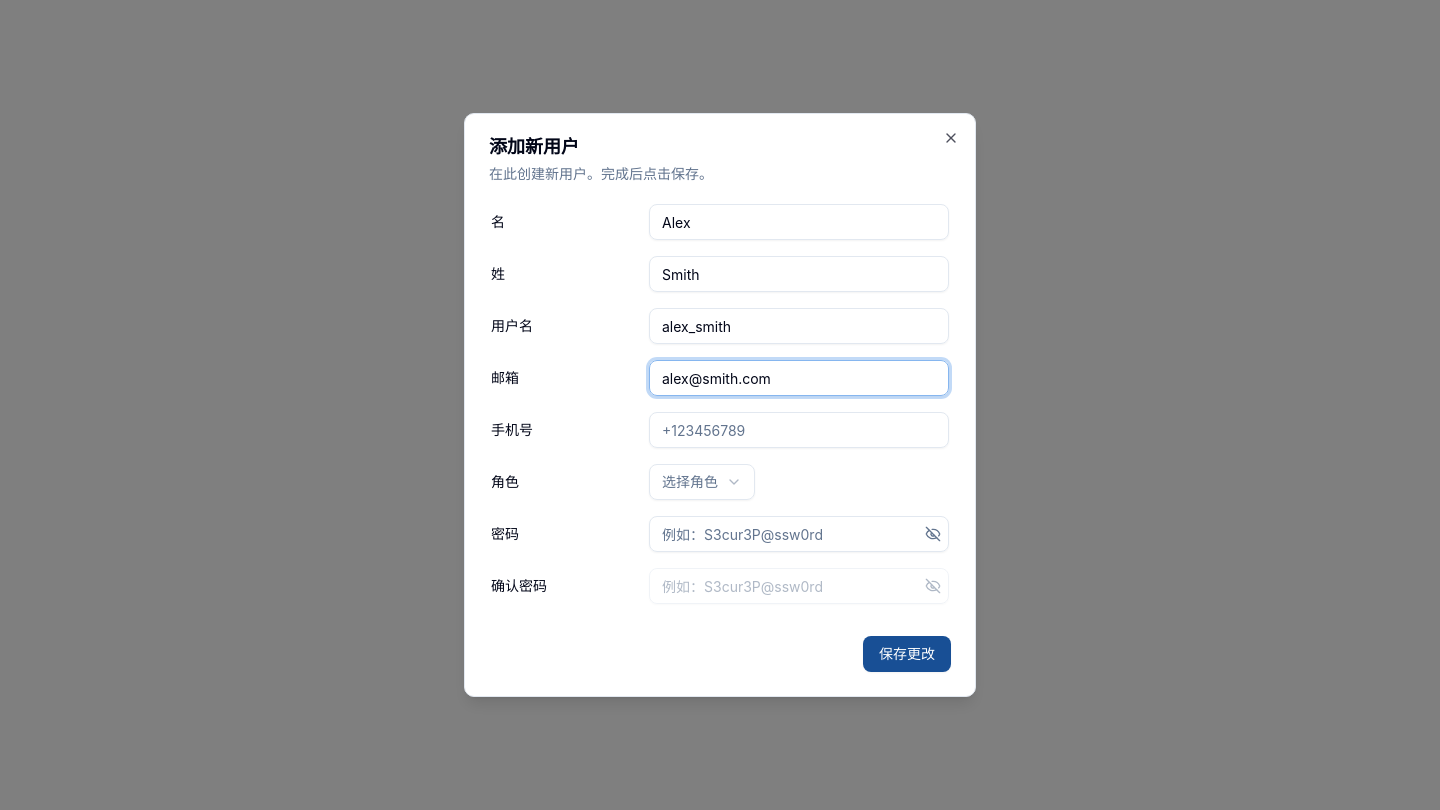
Test: UsersActionDialog › add user › shows server conflicts on the matching field and stays open
Earlier steps of the test are not shown.
Type "+19999999999" into the field labelled "手机号".
click(799, 430); type("+19999999999")  # box [649, 412, 949, 448]
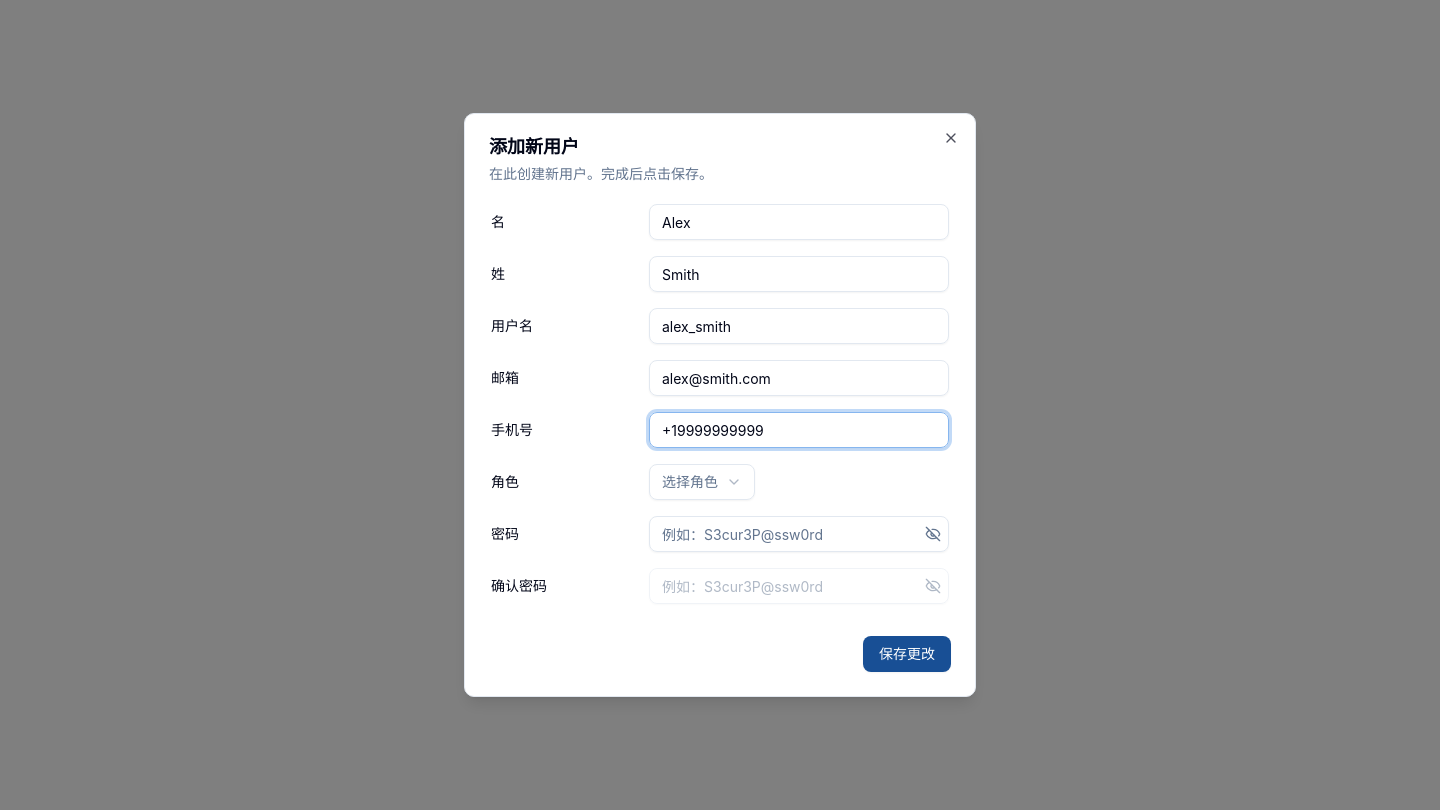
Click the dropdown labelled "选择角色".
click(702, 482)  # box [649, 464, 755, 500]
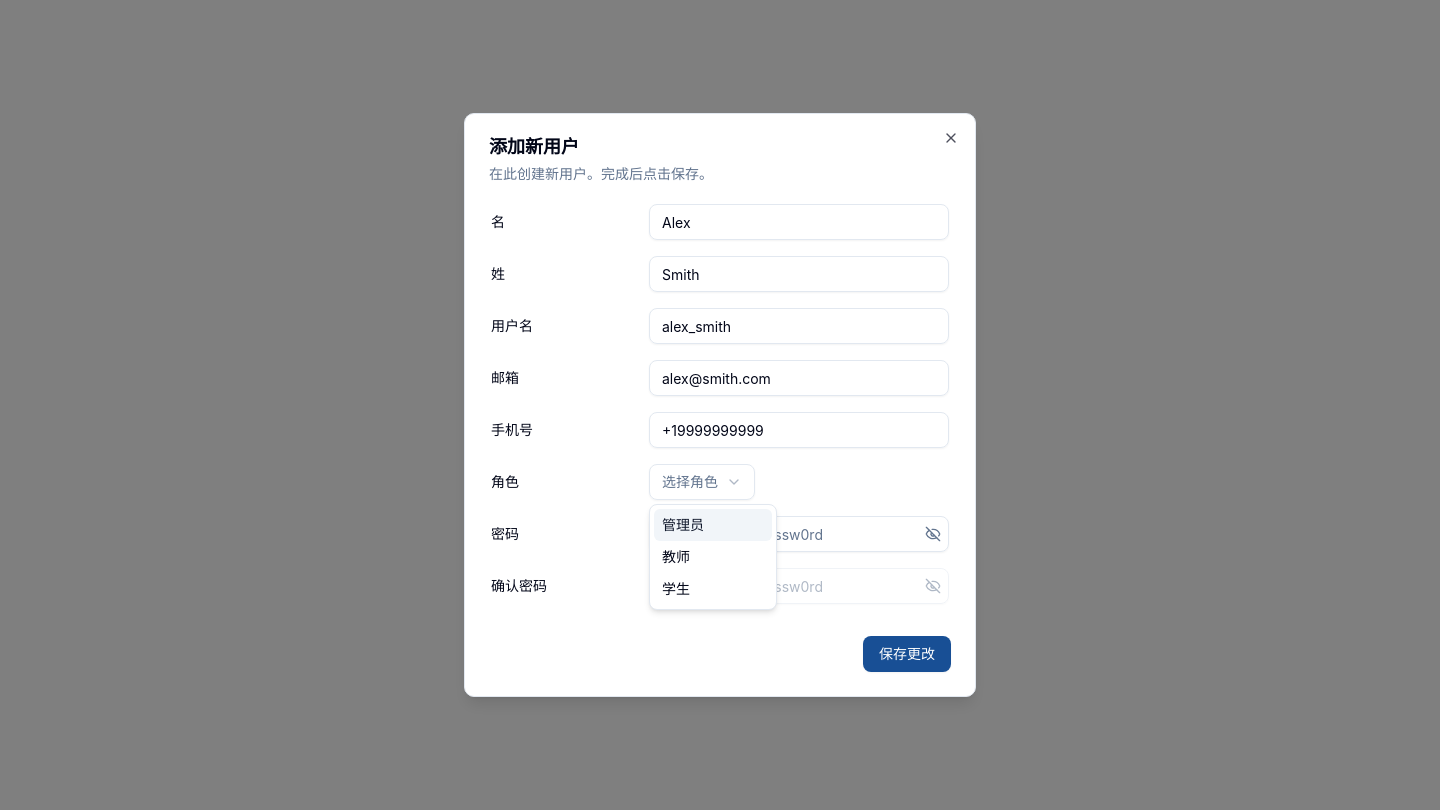
Click the option "管理员".
click(713, 525)  # box [654, 509, 772, 541]
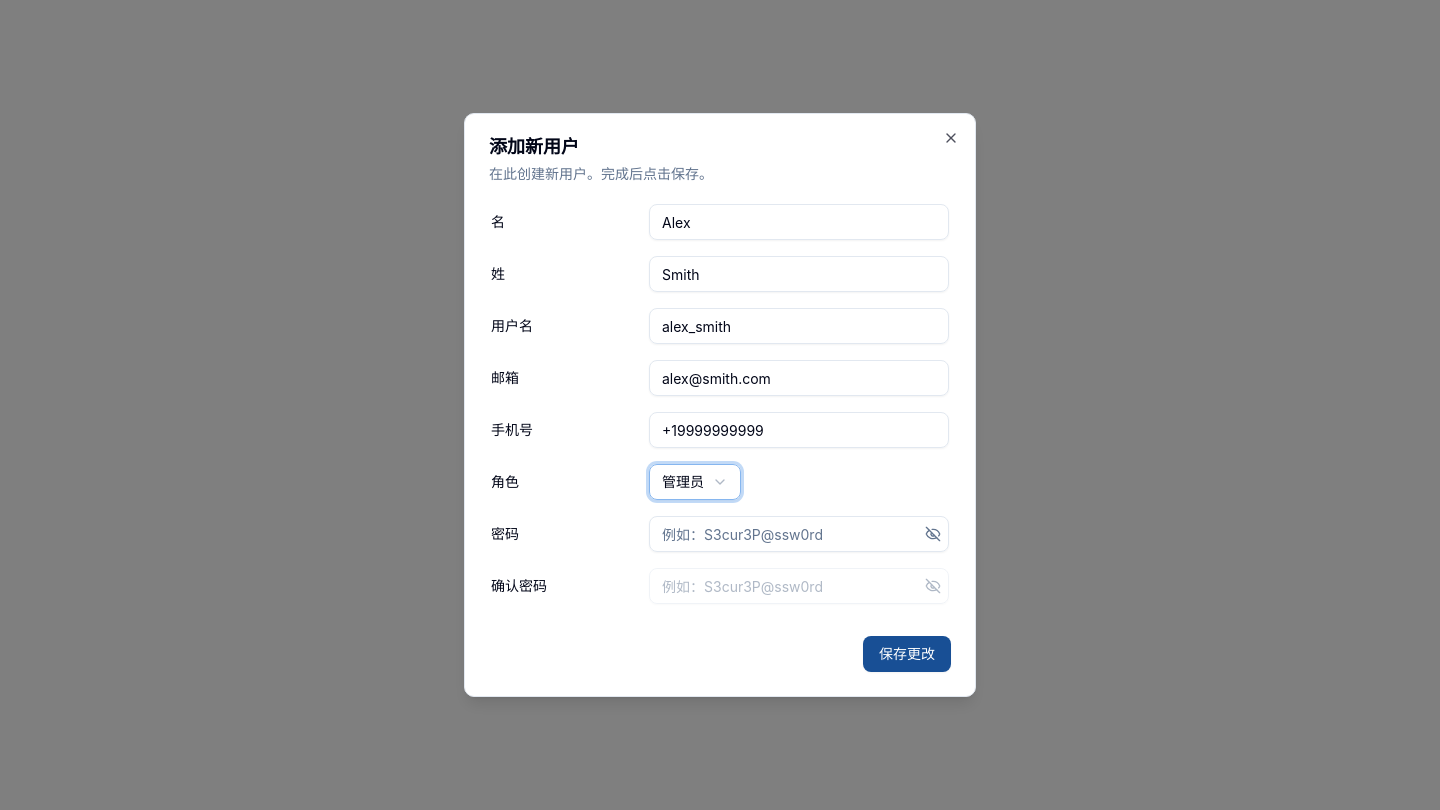
Type "S3cur3P@ssw0rd" into the password field labelled "密码".
click(799, 534); type("S3cur3P@ssw0rd")  # box [649, 516, 949, 552]
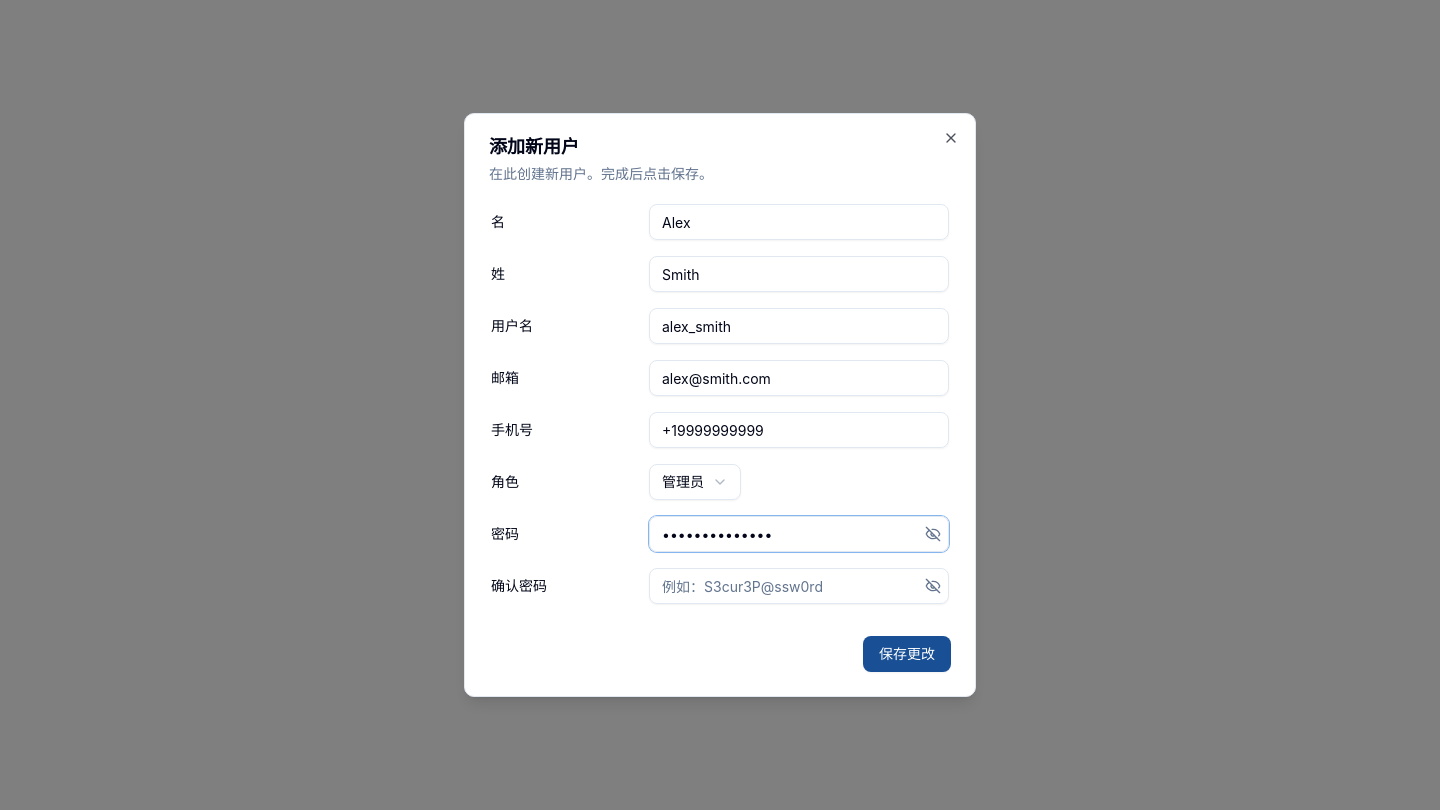
Type "S3cur3P@ssw0rd" into the password field labelled "确认密码".
click(799, 586); type("S3cur3P@ssw0rd")  # box [649, 568, 949, 604]
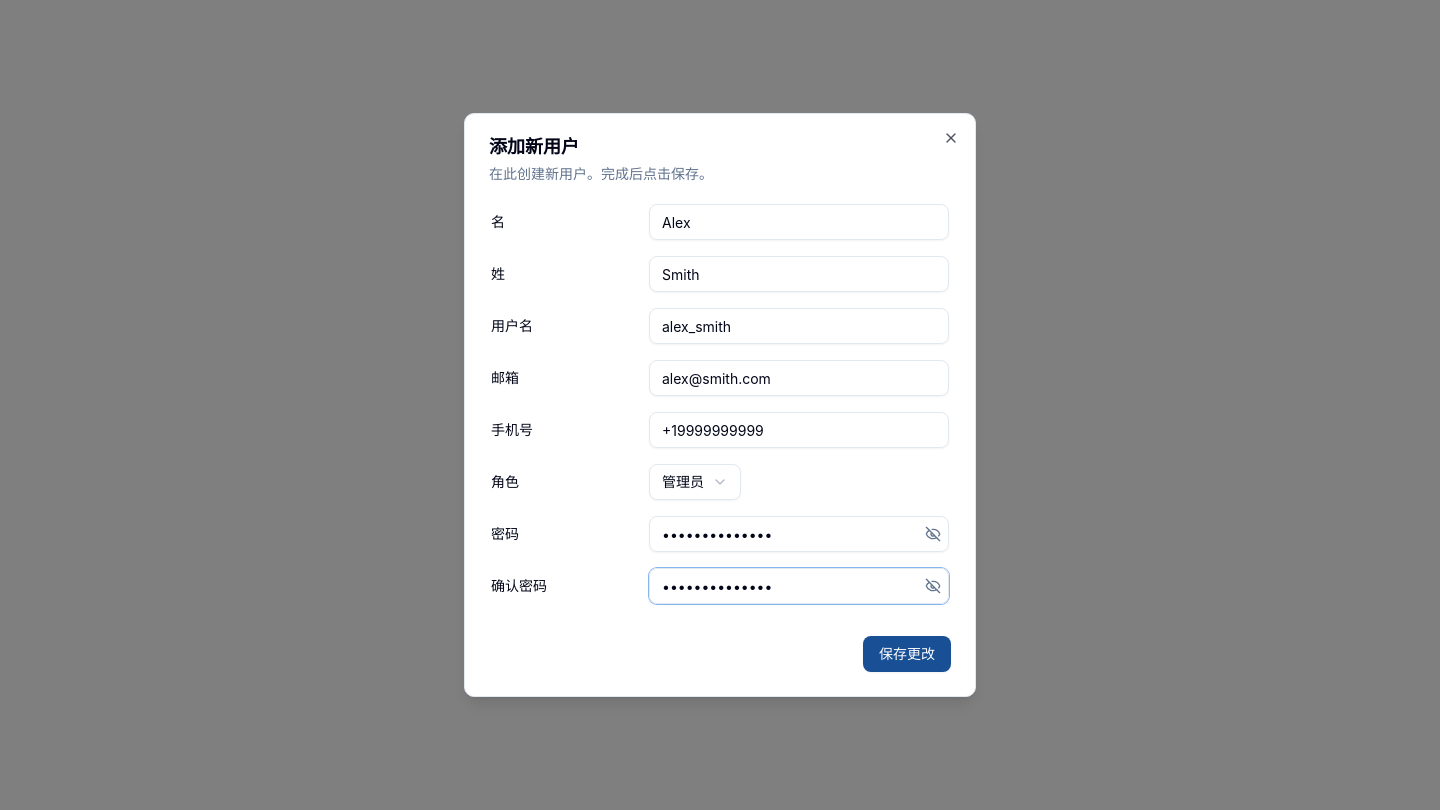
Click the button "保存更改".
click(907, 654)  # box [863, 636, 951, 672]
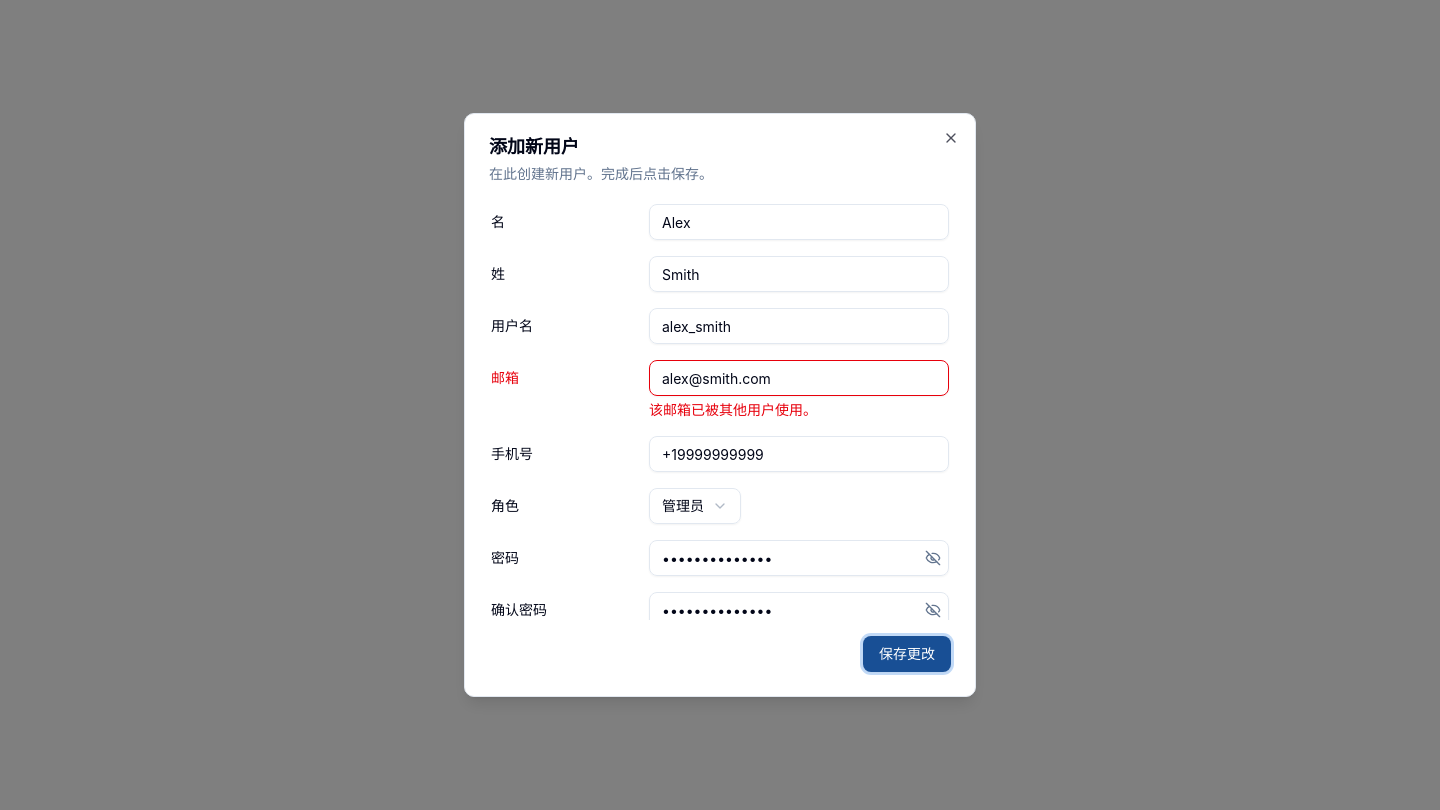
Expected: the text "该邮箱已被其他用户使用。" is shown, [649, 401, 817, 418]
